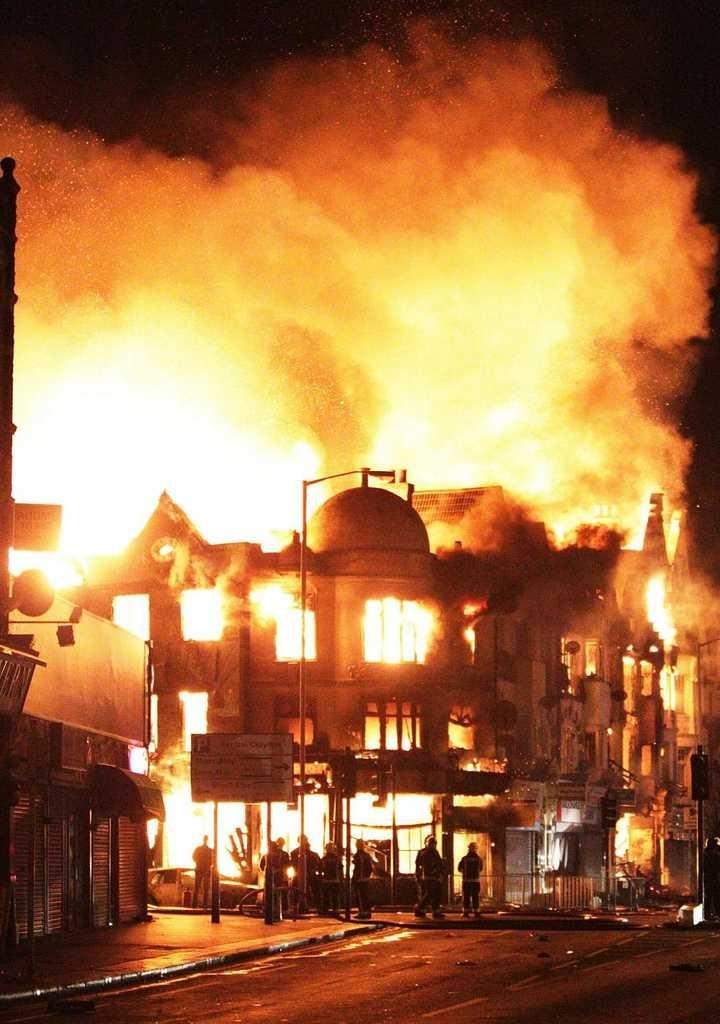fire: (42, 382, 298, 542), (402, 290, 572, 482), (375, 602, 440, 670), (190, 598, 230, 648)
smoke: (308, 105, 615, 252)
